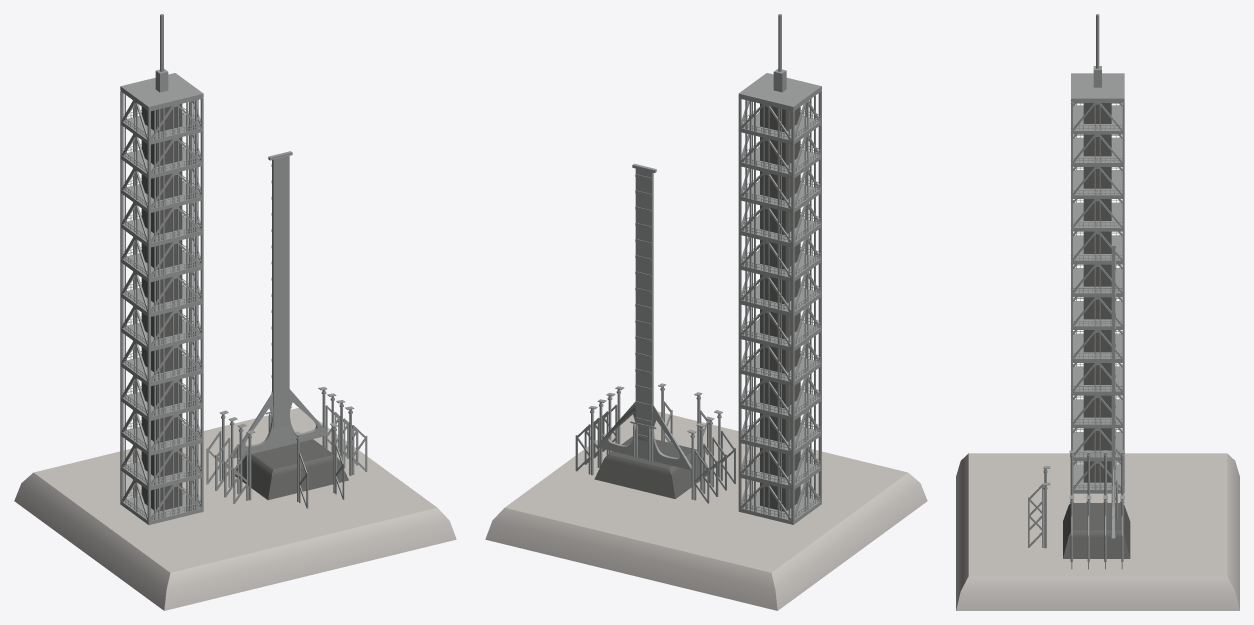
The model's file is launch_pad_compressed.glb.
The picture shows the model from 3 angles, left to right: view 1: azimuth 30°, elevation 25°; view 2: azimuth 150°, elevation 25°; view 3: azimuth 270°, elevation 25°; orthographic projection. The views are drawn at different scales.
Visible parts, largest first — view 1: Base_0, MetalConstruct_10, MetalConstInerior_2, RocketBackSupport_6, Pole_4, FalconPedestal_8; view 2: Base_0, MetalConstruct_10, MetalConstInerior_2, RocketBackSupport_6, Pole_4, FalconPedestal_8; view 3: Base_0, MetalConstruct_10, MetalConstInerior_2, FalconPedestal_8, Pole_4, RocketBackSupport_6.
Boxes of the visible parts, x1=… form: Base_0: x1=14, y1=408, x2=456, y2=610; MetalConstruct_10: x1=120, y1=14, x2=203, y2=524; MetalConstInerior_2: x1=141, y1=104, x2=182, y2=511; RocketBackSupport_6: x1=233, y1=151, x2=329, y2=458; Pole_4: x1=206, y1=387, x2=367, y2=508; FalconPedestal_8: x1=235, y1=439, x2=348, y2=500; Base_0: x1=485, y1=411, x2=927, y2=610; MetalConstruct_10: x1=738, y1=14, x2=821, y2=524; MetalConstInerior_2: x1=760, y1=103, x2=800, y2=511; RocketBackSupport_6: x1=596, y1=163, x2=691, y2=470; Pole_4: x1=575, y1=383, x2=735, y2=503; FalconPedestal_8: x1=594, y1=436, x2=707, y2=498; Base_0: x1=956, y1=453, x2=1239, y2=610; MetalConstruct_10: x1=1070, y1=14, x2=1124, y2=493; MetalConstInerior_2: x1=1083, y1=103, x2=1111, y2=482; FalconPedestal_8: x1=1063, y1=503, x2=1130, y2=558; Pole_4: x1=1028, y1=450, x2=1124, y2=569; RocketBackSupport_6: x1=1111, y1=235, x2=1117, y2=538.
Bounding box in the file's own units: 23.1 × 39.51 × 20.53.
Materials: 3 (1 with a texture image).
